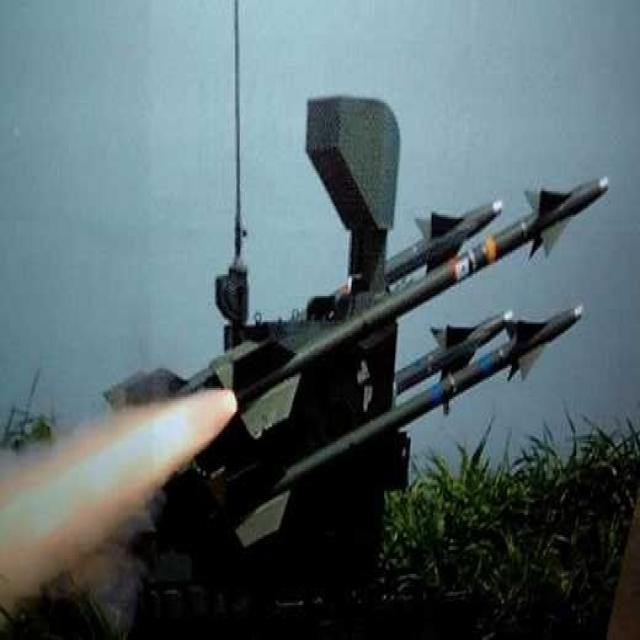missile: (213, 175, 612, 438), (234, 298, 586, 546), (377, 195, 504, 289), (382, 308, 513, 399)
